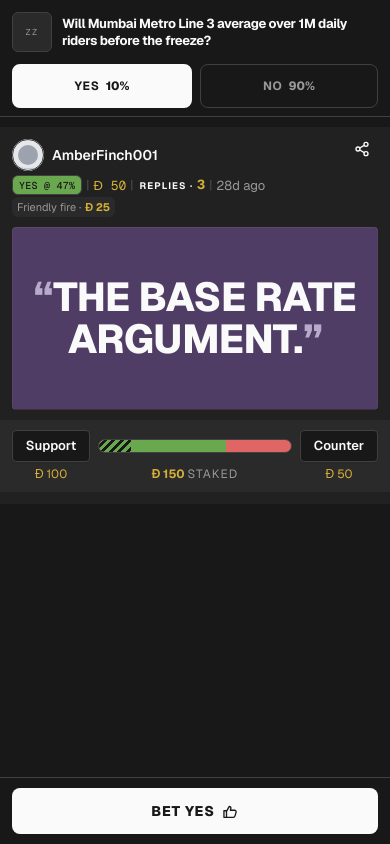
phone friendly-fire — the composer in the sheet (G14 · switch) › phone-ff::Support-opens-a-composer-with-the-switch-OFF
The image size is (390, 844).
Click the button with test id "card-trigger-support" at (51, 446), box [12,430,90,462]
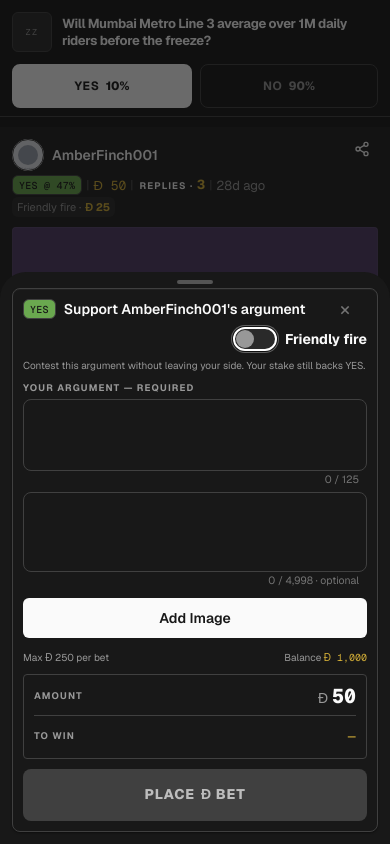
Expected: the switch with test id "ff-switch" is shown, [233,327,277,351]
Expected: the dialog with test id "phone-sheet" shows "Contest this argument without leaving your side. Your stake still backs YES.", [23,359,365,372]
